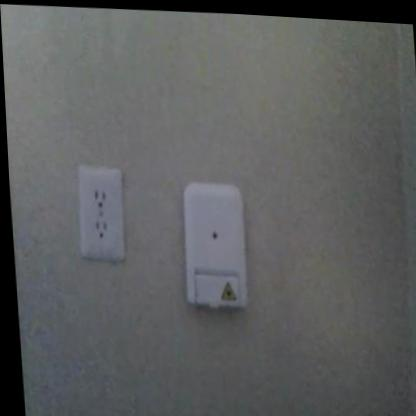OUTLET: (74, 163, 128, 261)
